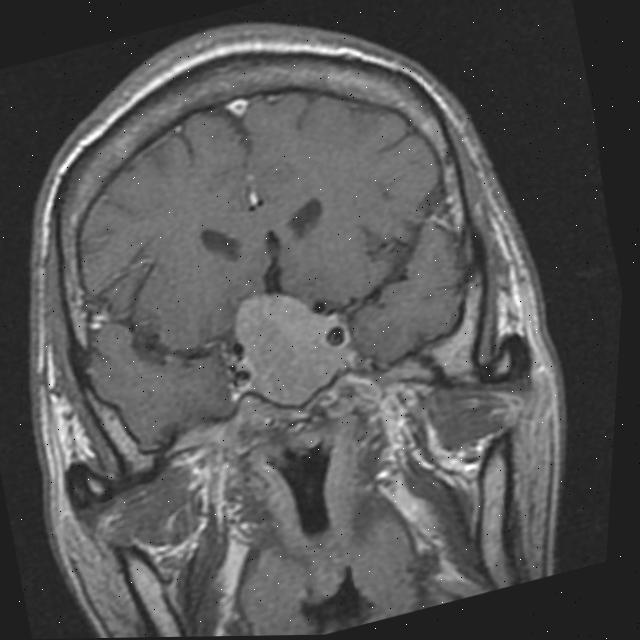Pituitary: (221, 277, 349, 418)
